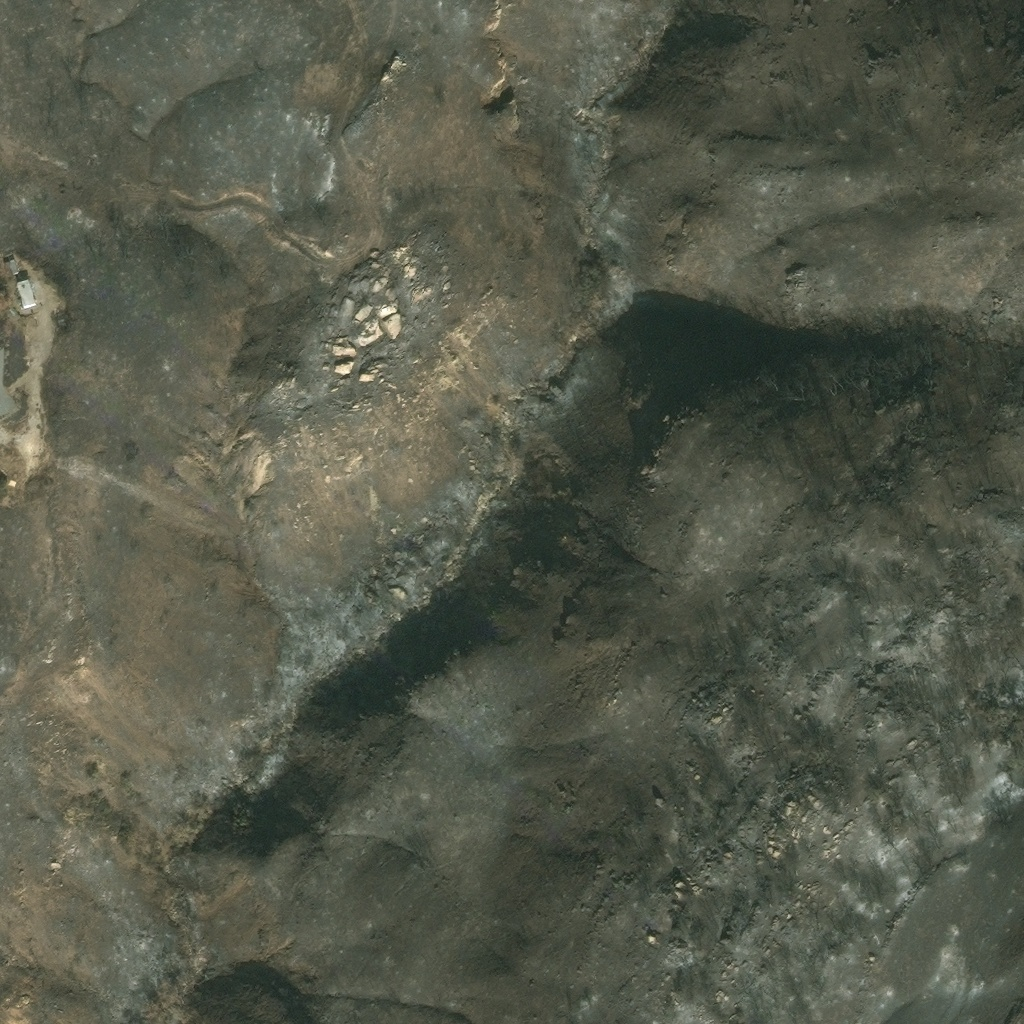0 no-damage: (15, 280, 35, 311)
